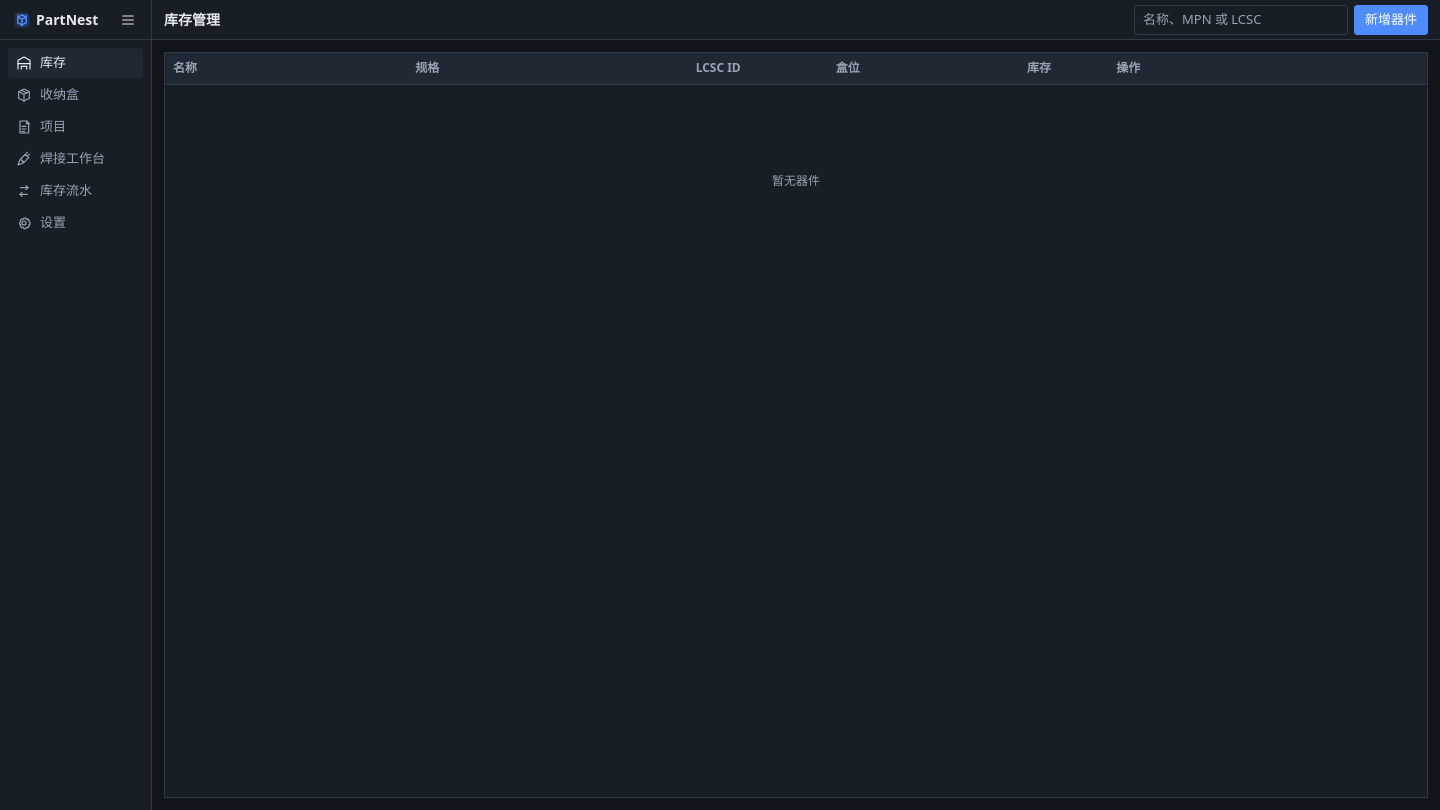
AppShell › keeps an accessible PartNest mark visible when navigation is collapsed
Check: the picture named "PartNest" is shown, box [12,10,32,30]
Click the button named "折叠导航".
click(128, 20)  # box [113,4,143,34]
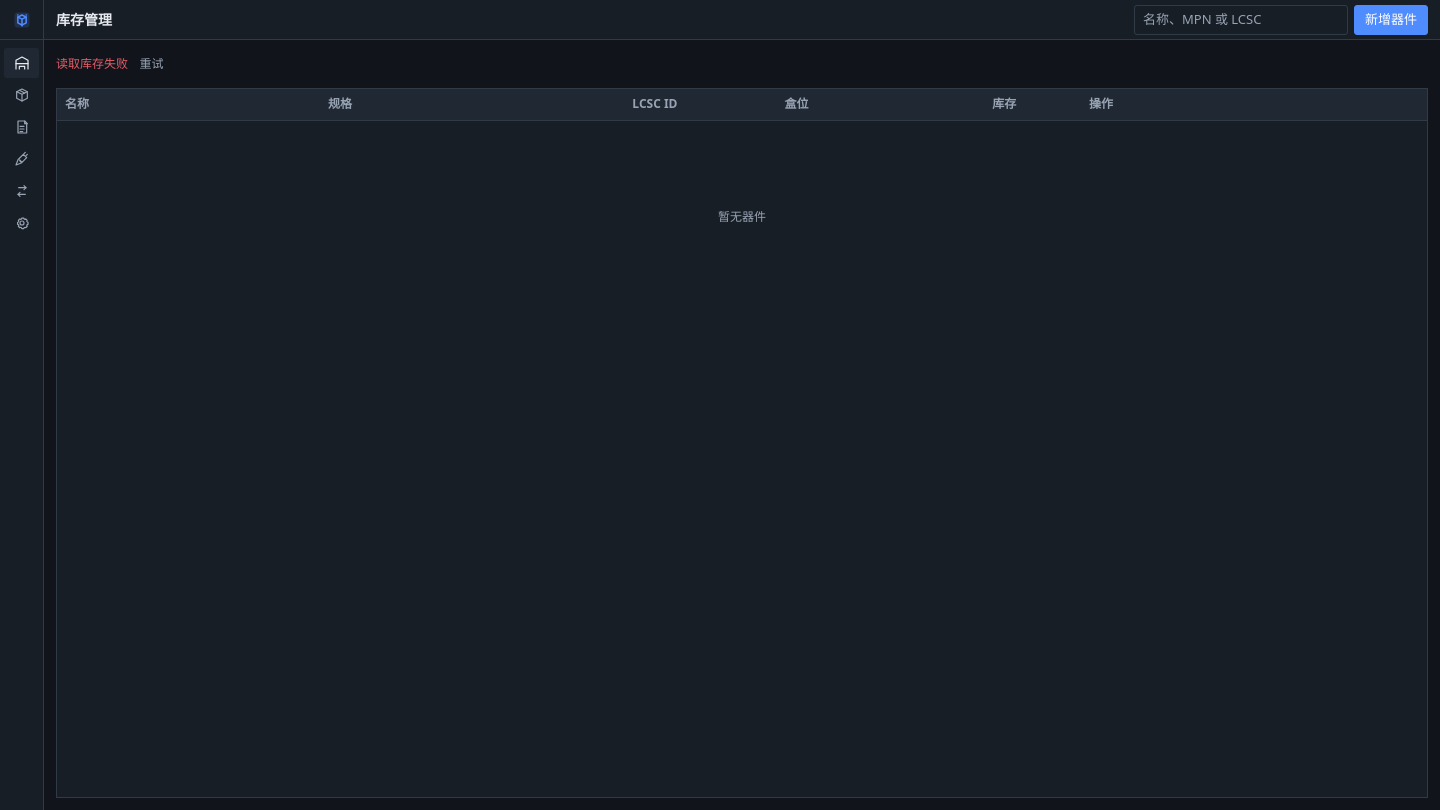
Check: the picture named "PartNest" is shown, box [12,10,32,30]
Check: the text "PartNest" is gone
